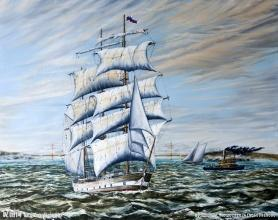fanchuan: (63, 11, 173, 195)
